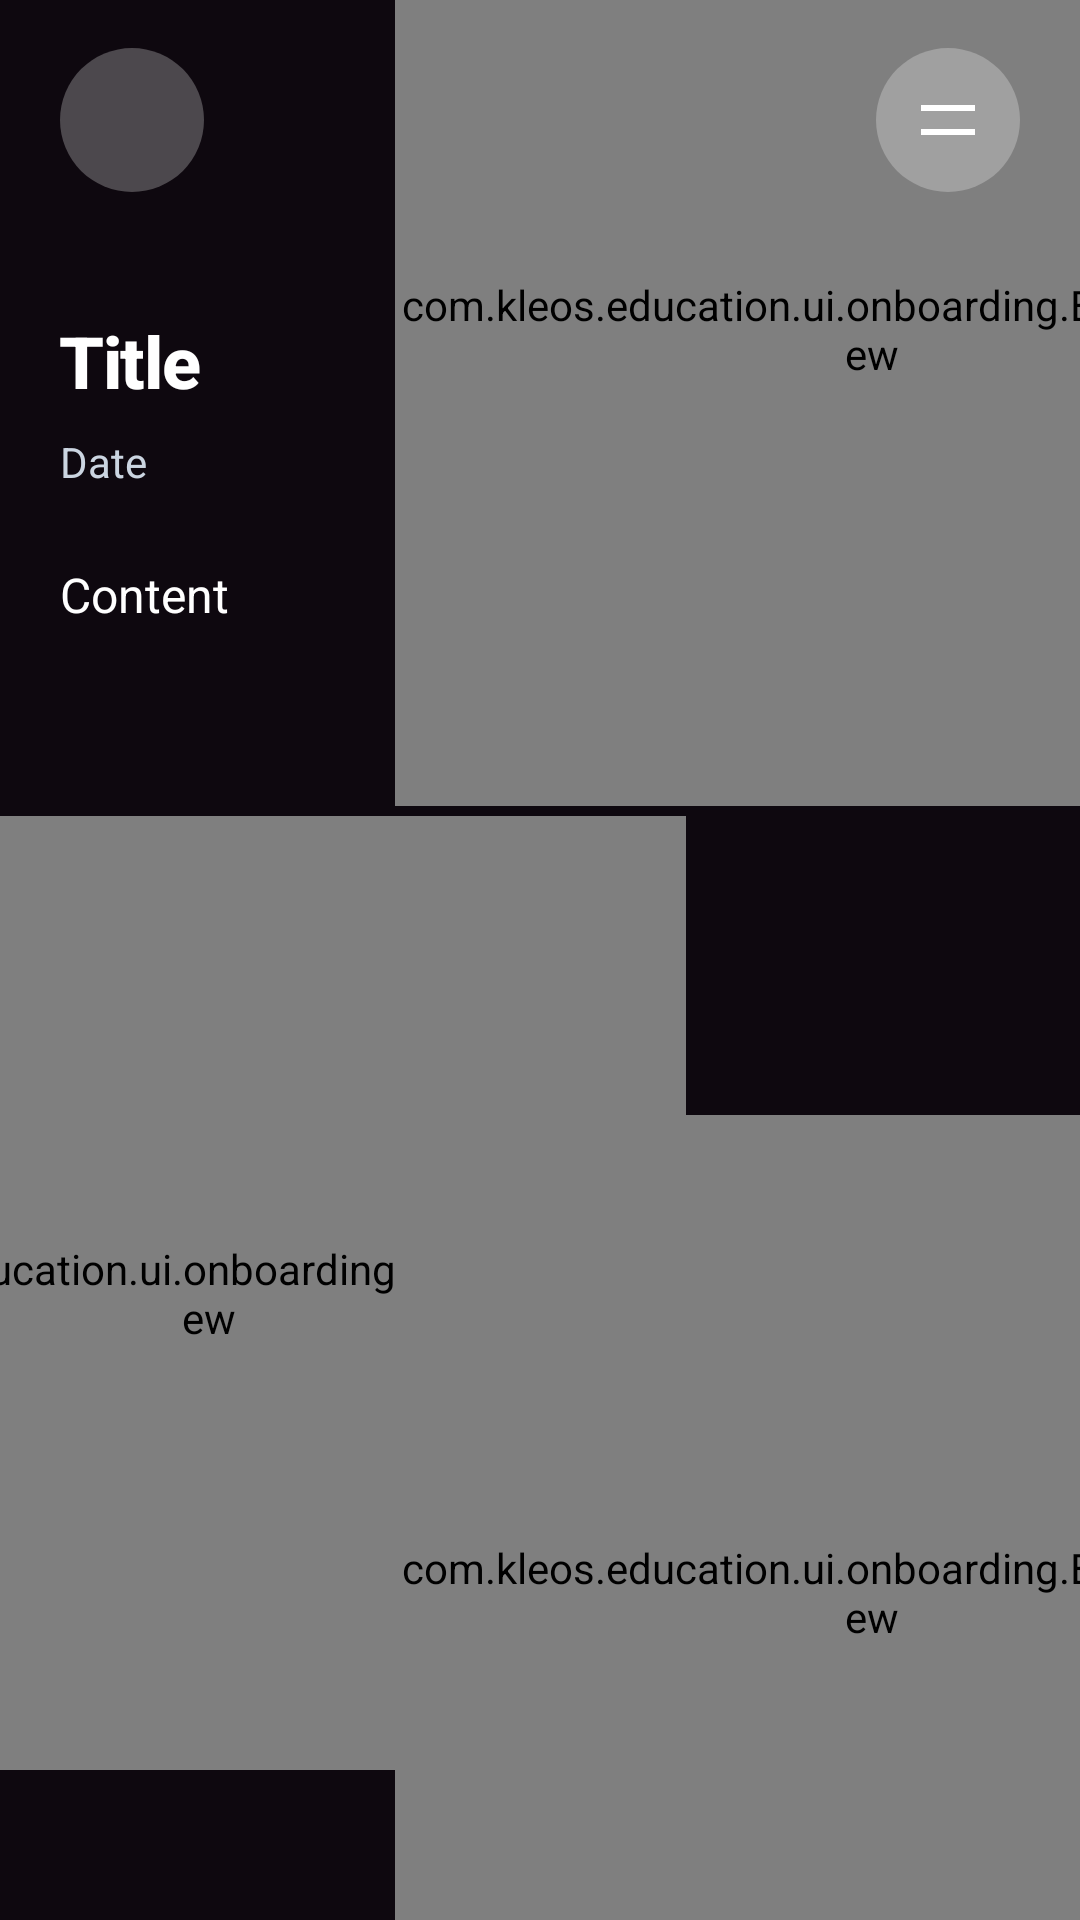

Where icons sit on this 1080px x 1920px app screen, as (x1, y1, x2, y2):
Menu: (876, 48, 1020, 192)
